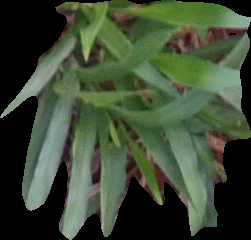grass: (1, 1, 250, 239)
